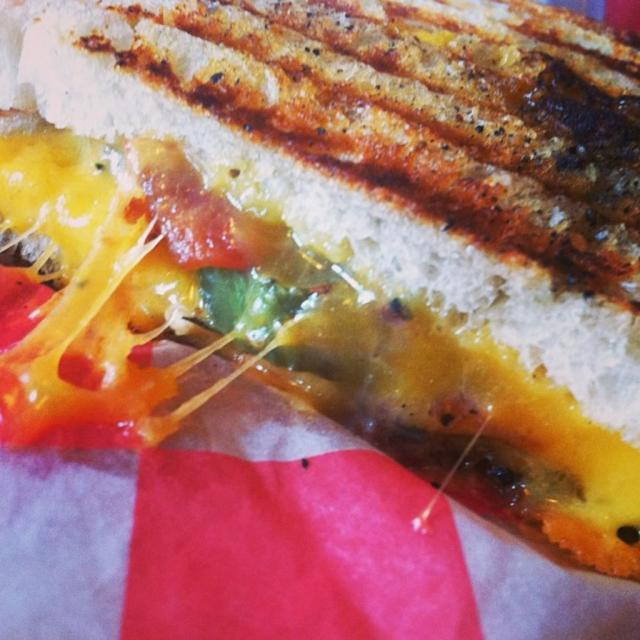Sandwich: (0, 0, 639, 584)
